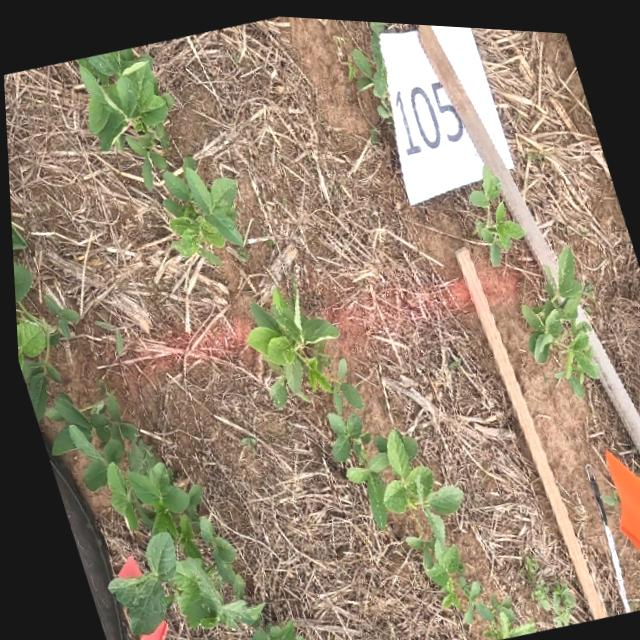soy_plant: (10, 255, 300, 640), (243, 286, 529, 635), (78, 46, 241, 260), (518, 240, 595, 389), (466, 160, 522, 259), (348, 17, 391, 114), (525, 574, 569, 620), (605, 458, 621, 525)
